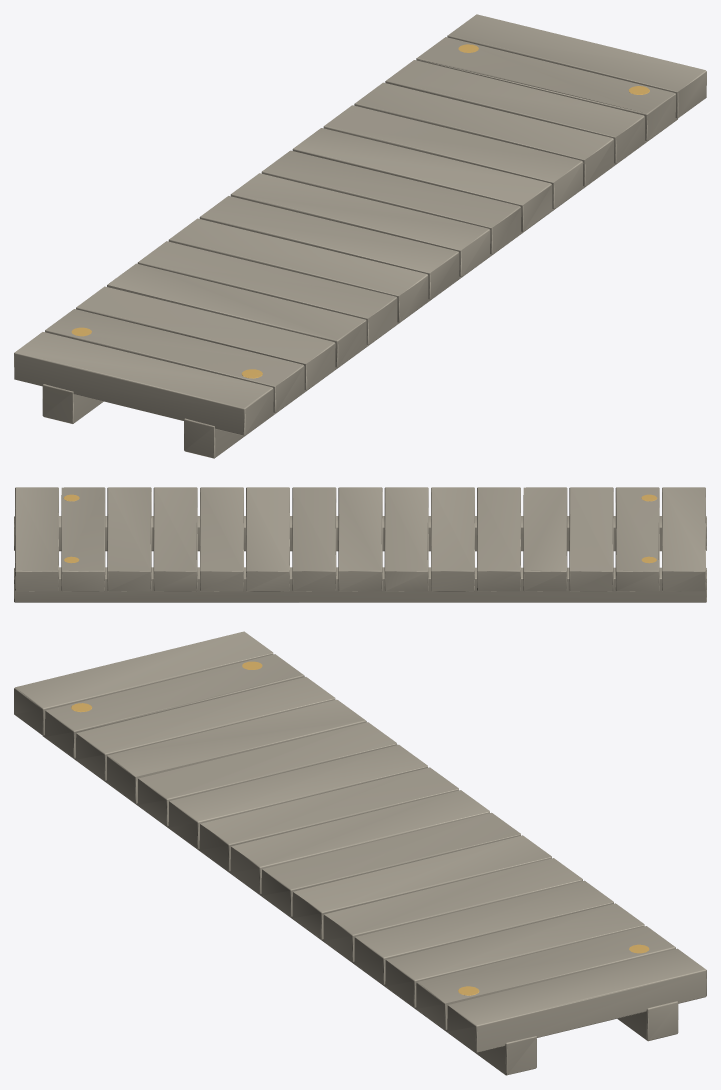
File: pirate_road_p30.glb
3 views of the same model, one above another, from view 1: azimuth 30°, elevation 25°; view 2: azimuth 150°, elevation 25°; view 3: azimuth 270°, elevation 25° (orthographic). The views are drawn at different scales.
Visible parts, largest first — view 1: WoodBody; view 2: WoodBody, BrassTrim; view 3: WoodBody.
Boxes of the visible parts, x1=… form: WoodBody: x1=14, y1=14, x2=706, y2=458; WoodBody: x1=14, y1=487, x2=706, y2=602; BrassTrim: x1=63, y1=494, x2=657, y2=563; WoodBody: x1=14, y1=631, x2=706, y2=1075.
Size of the model in its own units: 0.6638 by 0.045 by 0.4925.
